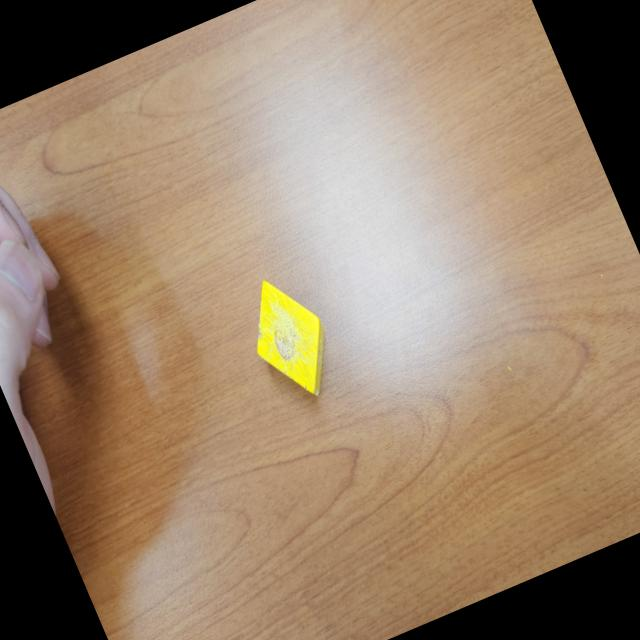broken: (234, 266, 346, 412)
